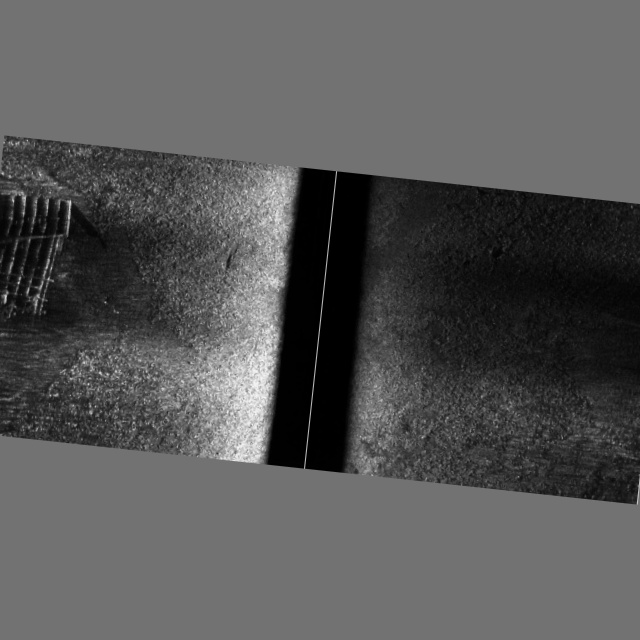Shipwreck: (0, 191, 241, 343)
